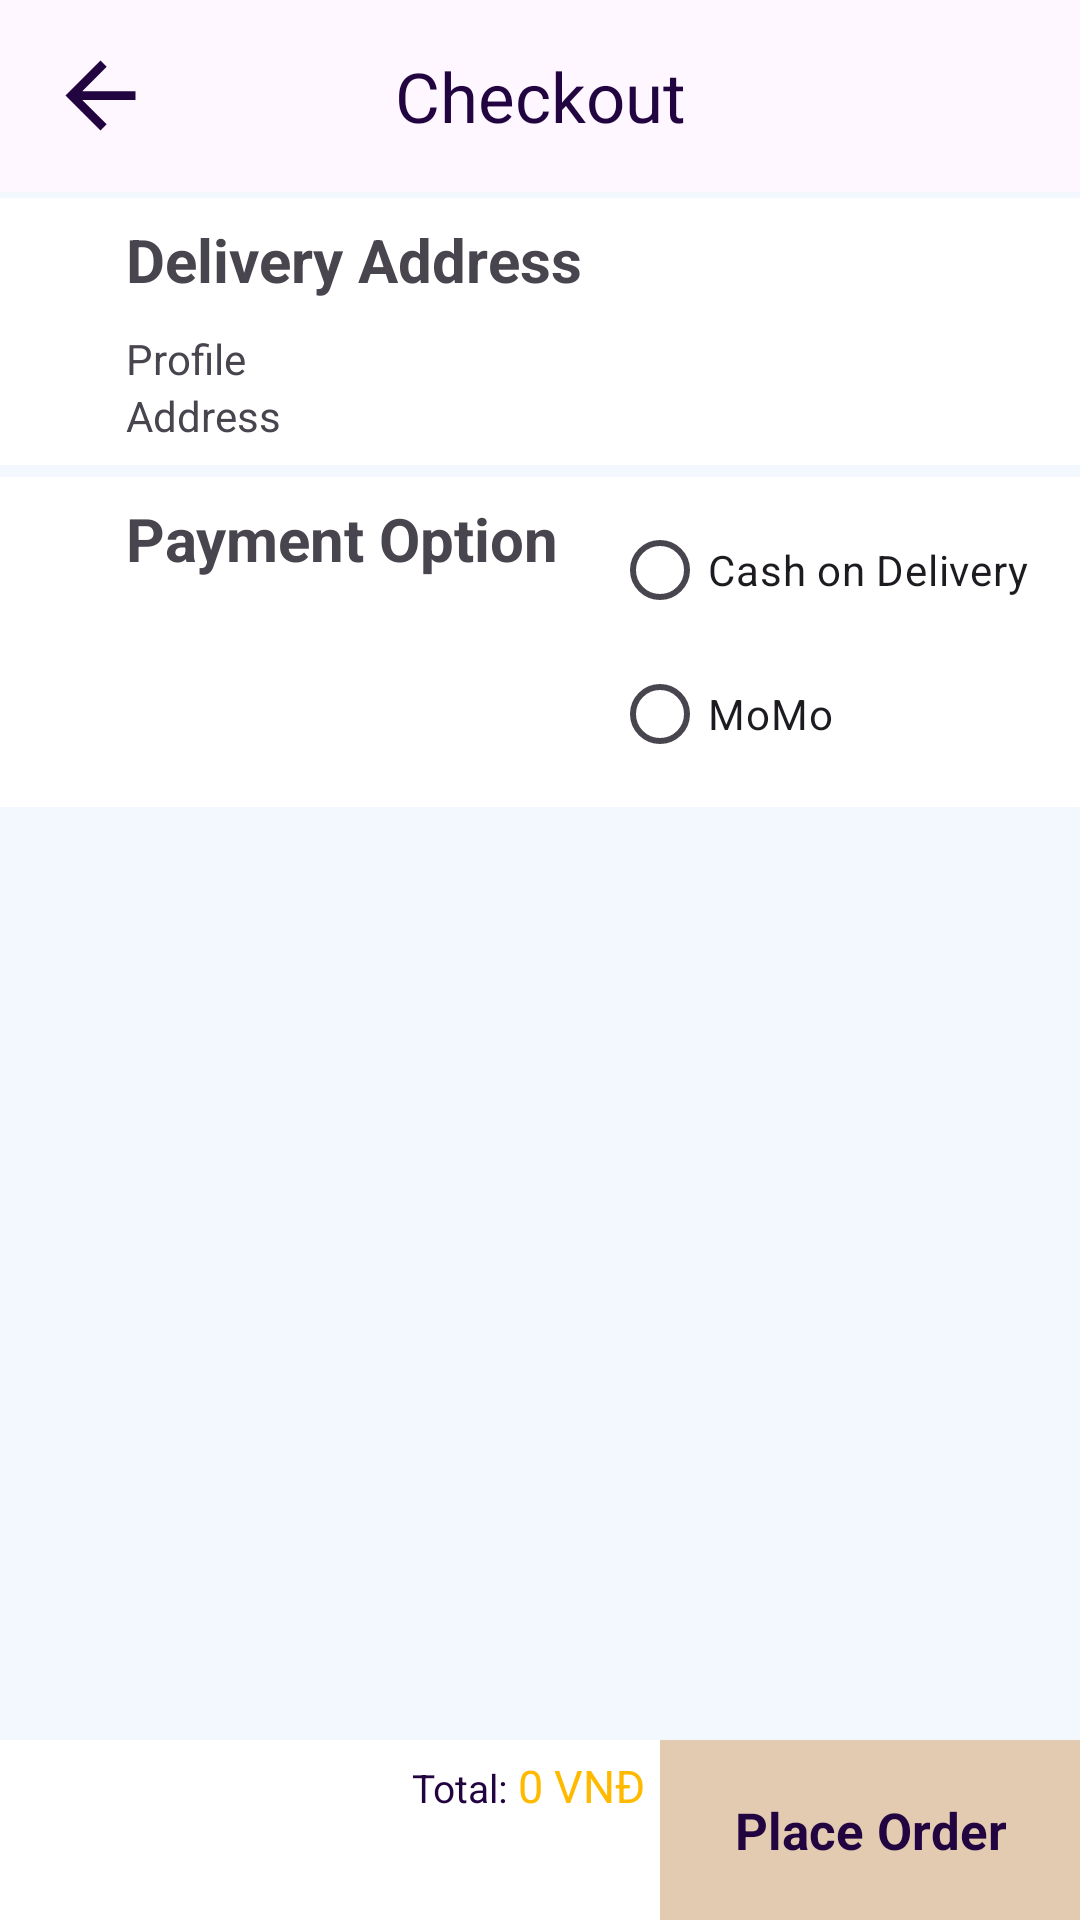

Locate icon controls on the screen. Image size 1080 × 1920, boxes as (x1, y1, x2, y2).
arrow back: (65, 60, 136, 131)
